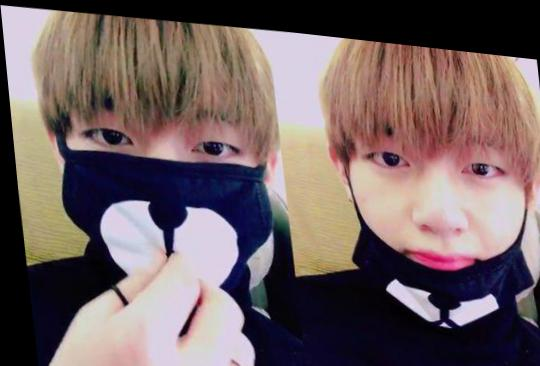OK: (57, 80, 270, 295)
WRONG: (338, 100, 540, 305)
